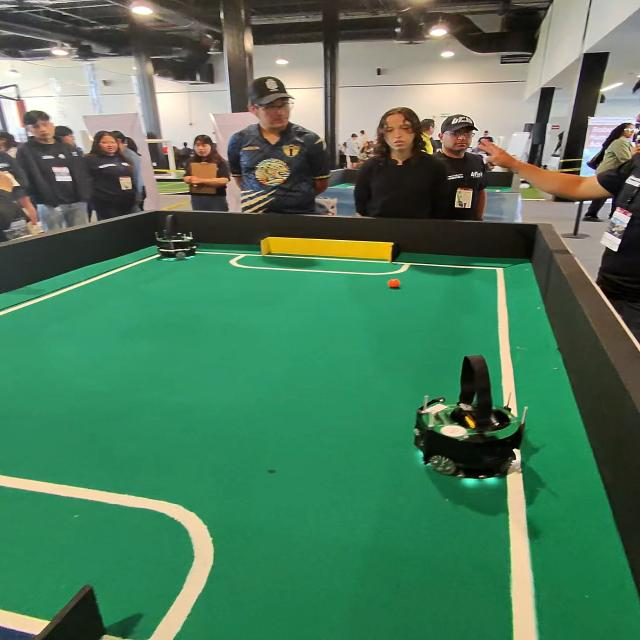Robot: (396, 349, 564, 500), (144, 210, 225, 269)
pelota: (380, 268, 410, 304)
